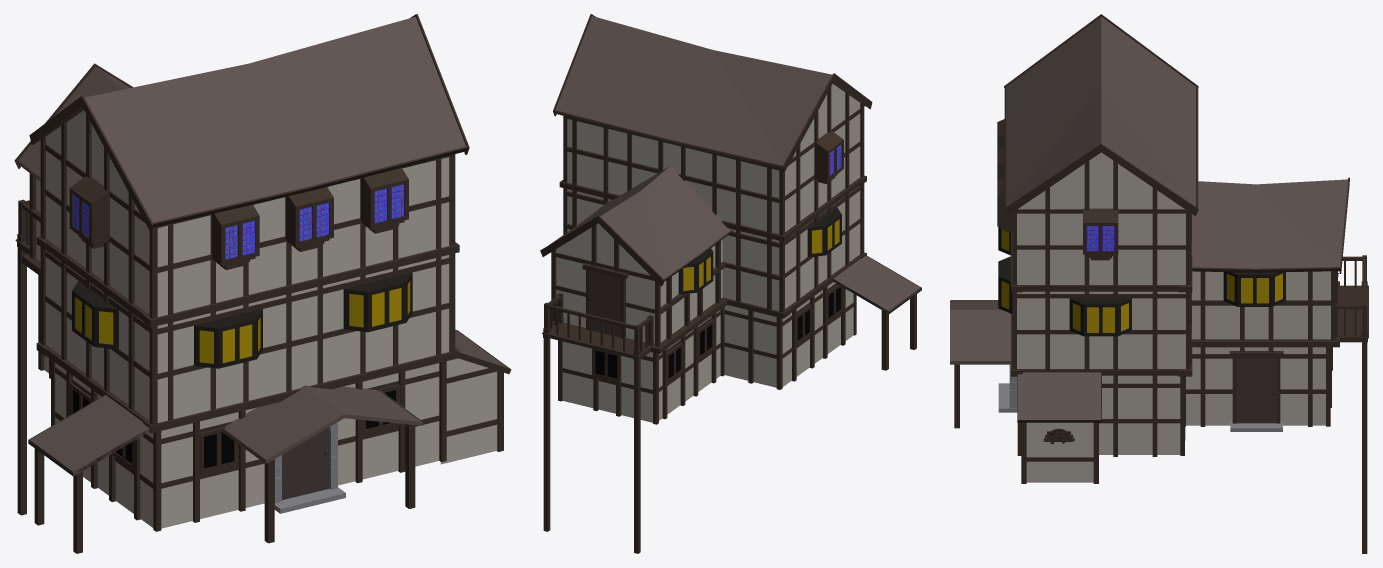
File: House_Cap_1.glb
3 renders of one model, left to right at view 1: azimuth 30°, elevation 25°; view 2: azimuth 150°, elevation 25°; view 3: azimuth 270°, elevation 25°, orthographic. The views are drawn at different scales.
Parts seen in each view (by area): view 1: House_Cap_1; view 2: House_Cap_1; view 3: House_Cap_1.
Boxes of the visible parts, x1=… form: House_Cap_1: x1=14, y1=14, x2=511, y2=553; House_Cap_1: x1=540, y1=14, x2=921, y2=553; House_Cap_1: x1=950, y1=14, x2=1368, y2=553.
Size of the model in its own units: 8.53 by 10.42 by 8.8.
32 materials, 32 textured.
